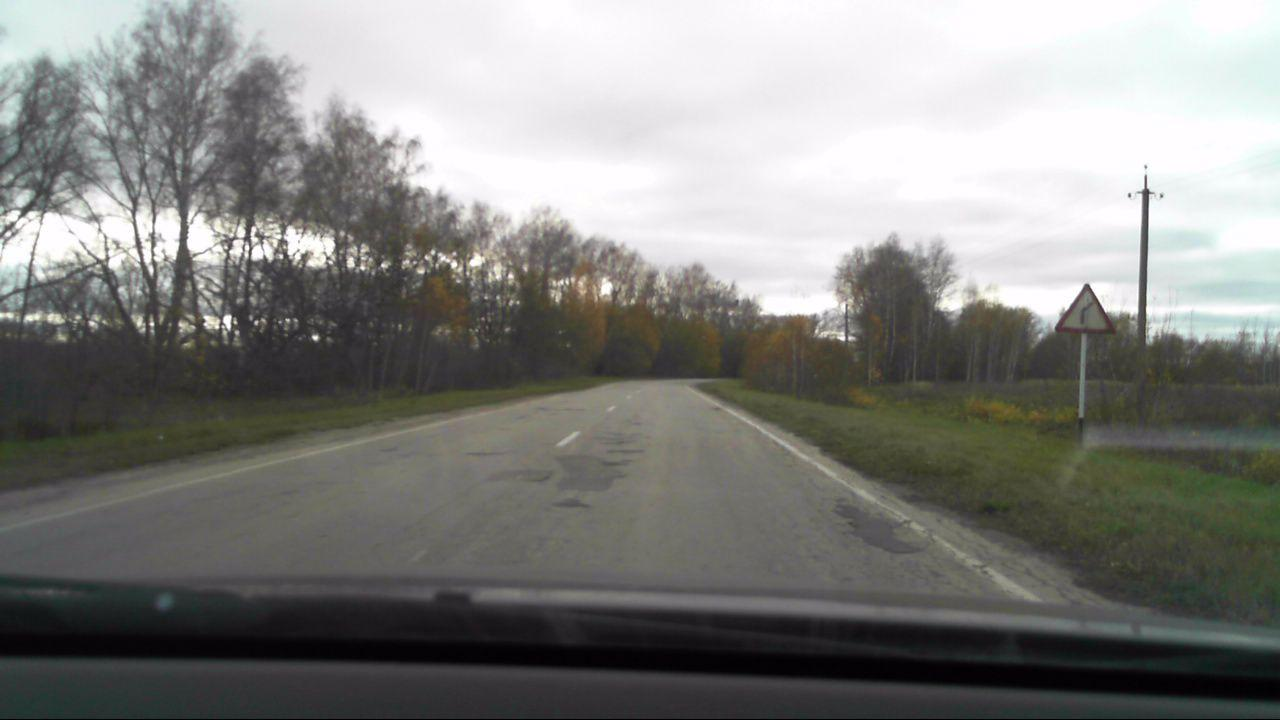1_11_1: (1051, 273, 1116, 340)
